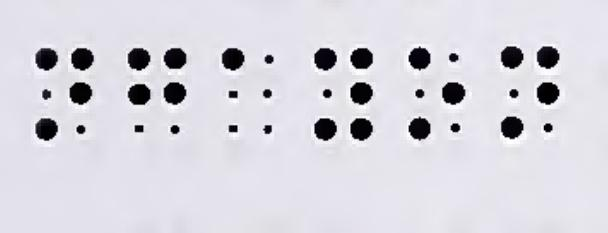a: (220, 49, 275, 138)
g: (126, 45, 187, 135)
n: (499, 46, 561, 143), (33, 47, 93, 141)
o: (407, 46, 465, 139)
y: (315, 46, 372, 145)
